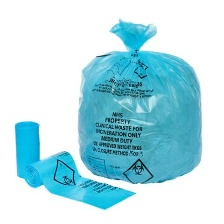plastic_bag: (67, 11, 212, 189), (20, 148, 136, 212), (8, 112, 48, 182)
